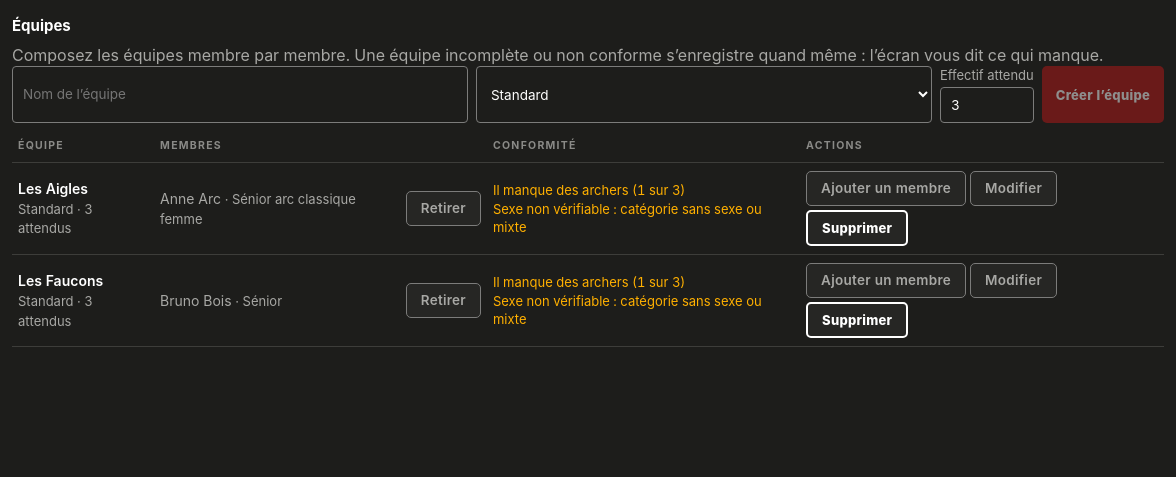
Test case: Équipes › signale l’archer déjà dans une autre équipe du même type
Click the button with aria-label "Ajouter un membre à l’équipe Les Aigles" at (886, 189), box [806,171,966,206]
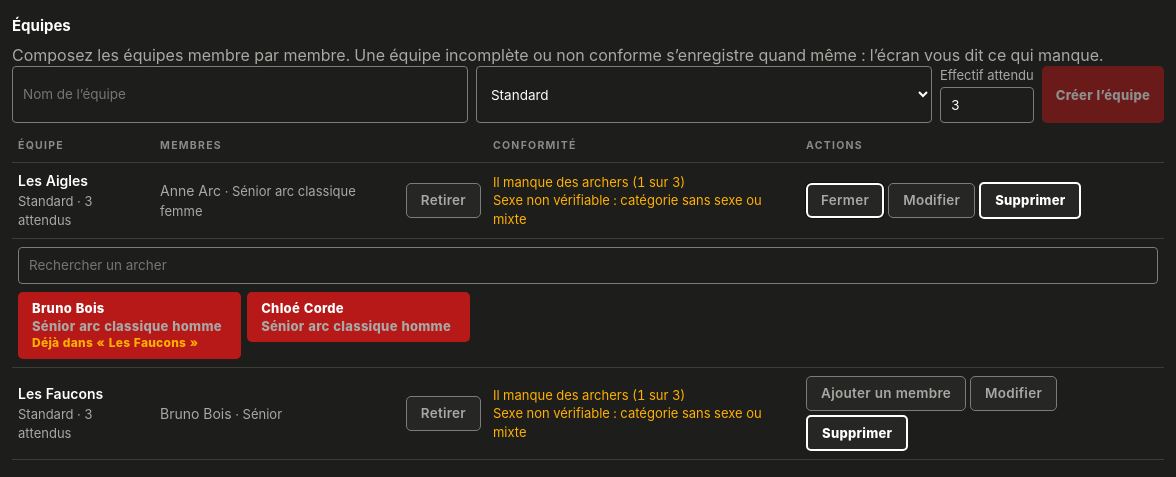
Expected: the button with aria-label "Ajouter Chloé Corde à l’équipe Les Aigles" does not show "Déjà dans", [247,292,470,342]
Now the button with aria-label "Ajouter Bruno Bois à l’équipe Les Aigles" shows "Déjà dans « Les Faucons »", box [18,292,241,359]
